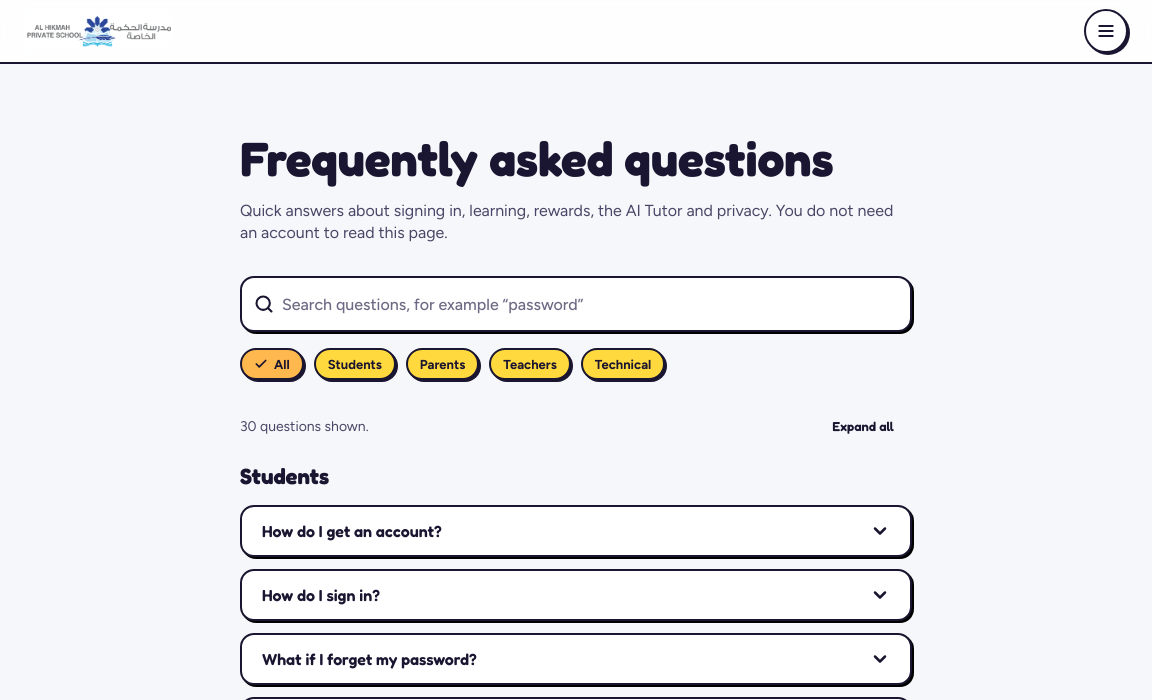
Test: PUB-09: FaqPage (SH-07) › shows the empty state with a link to Help when nothing matches
Type "zzzzqx" into the search field named "Search the FAQ".
click(590, 304); type("zzzzqx")  # box [282,278,898,330]
(page scrolled)
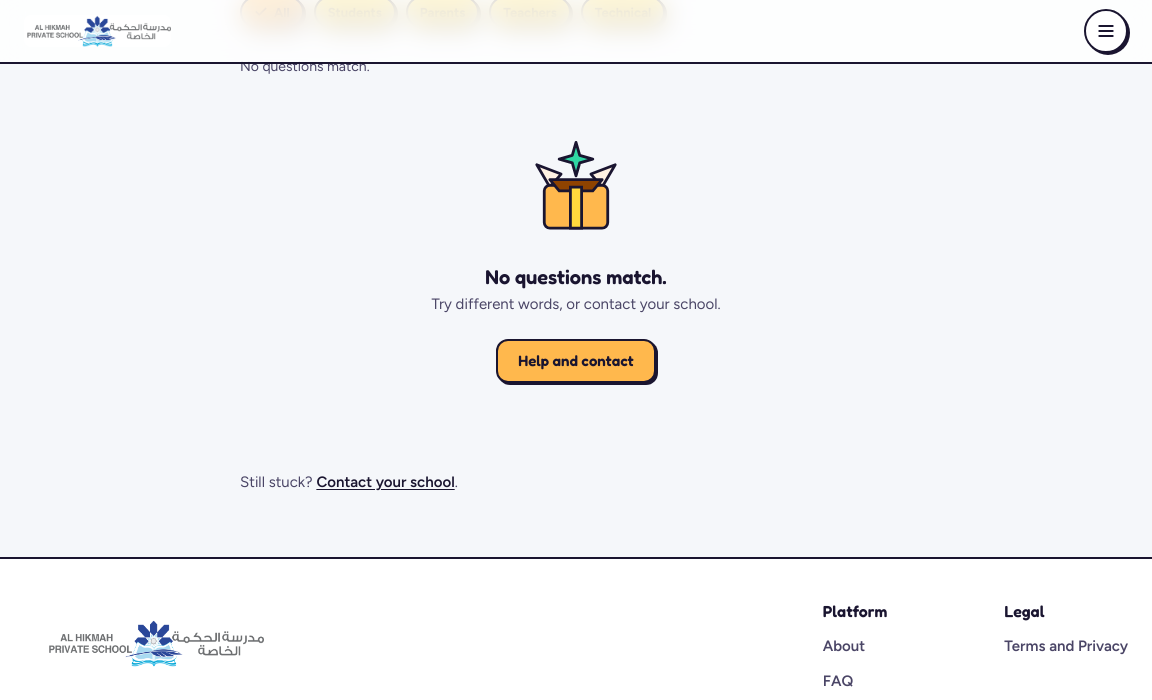
expect the heading "No questions match." is shown: met, box [485,265,667,290]
expect the text "Try different words, or contact your school." is shown: met, box [431,294,721,315]
expect the button "Help and contact" is shown: met, box [496,339,656,383]
